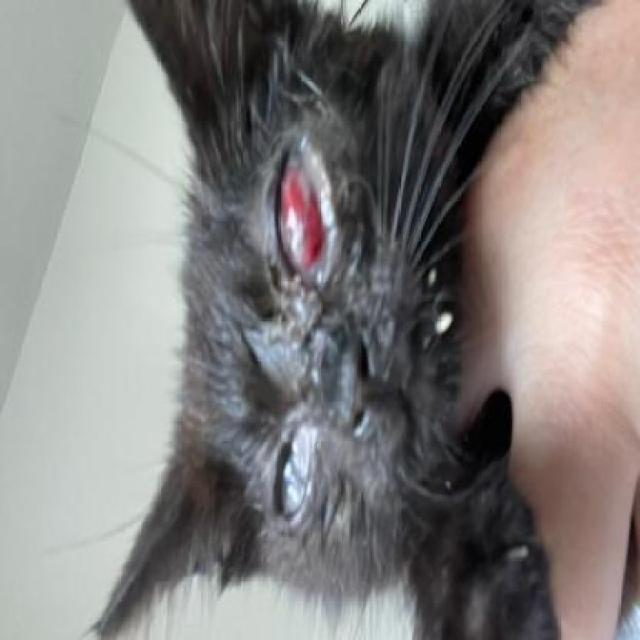cat: (132, 0, 522, 640)
injured: (214, 144, 374, 350)
